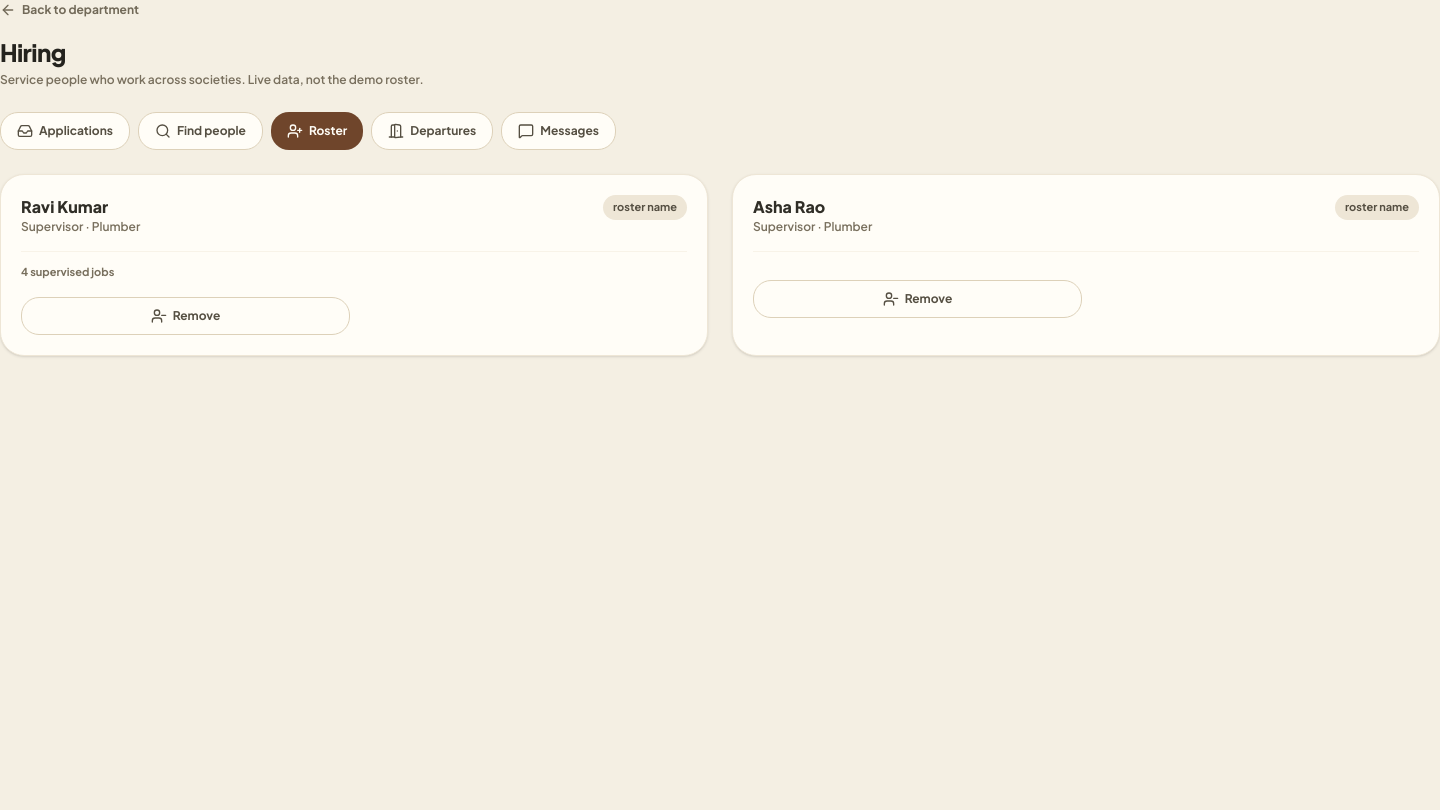
it: the confirmation sheet › names the person and states both real counts
Click the button "Remove" below "supervised": click(186, 316) top-left (21, 296), bottom-right (350, 334)
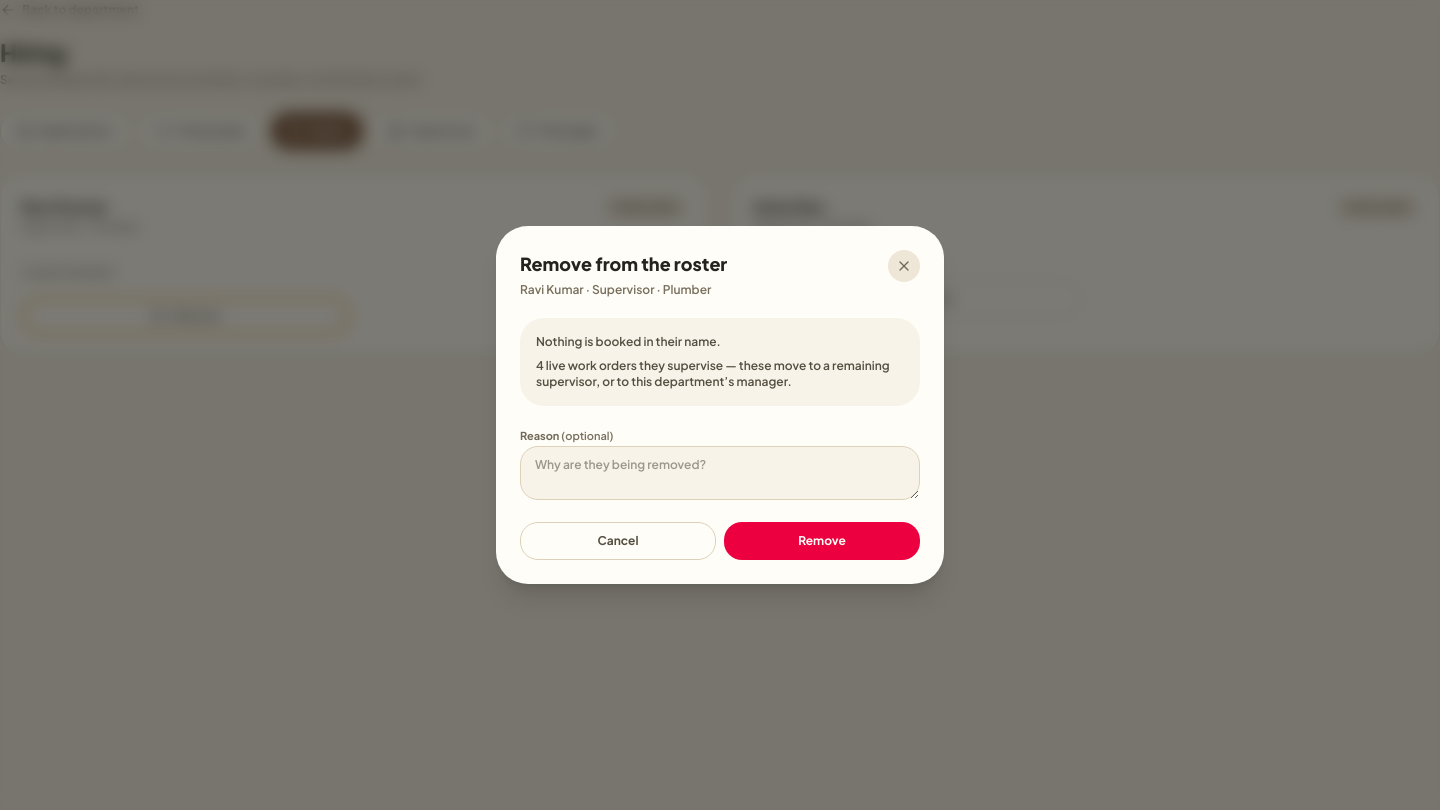
Check: the dialog shows "Ravi Kumar", box top-left (520, 282), bottom-right (584, 297)
Check: the dialog shows "Supervisor", box top-left (592, 282), bottom-right (654, 297)
Check: the dialog shows "Nothing is booked in their name.", box top-left (536, 334), bottom-right (721, 349)
